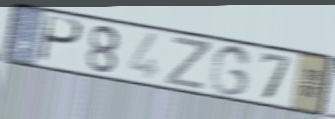4: (126, 30, 163, 85)
7: (258, 50, 296, 103)
8: (86, 24, 121, 74)
G: (207, 43, 254, 98)
P: (35, 13, 85, 66)
Z: (163, 34, 212, 92)
